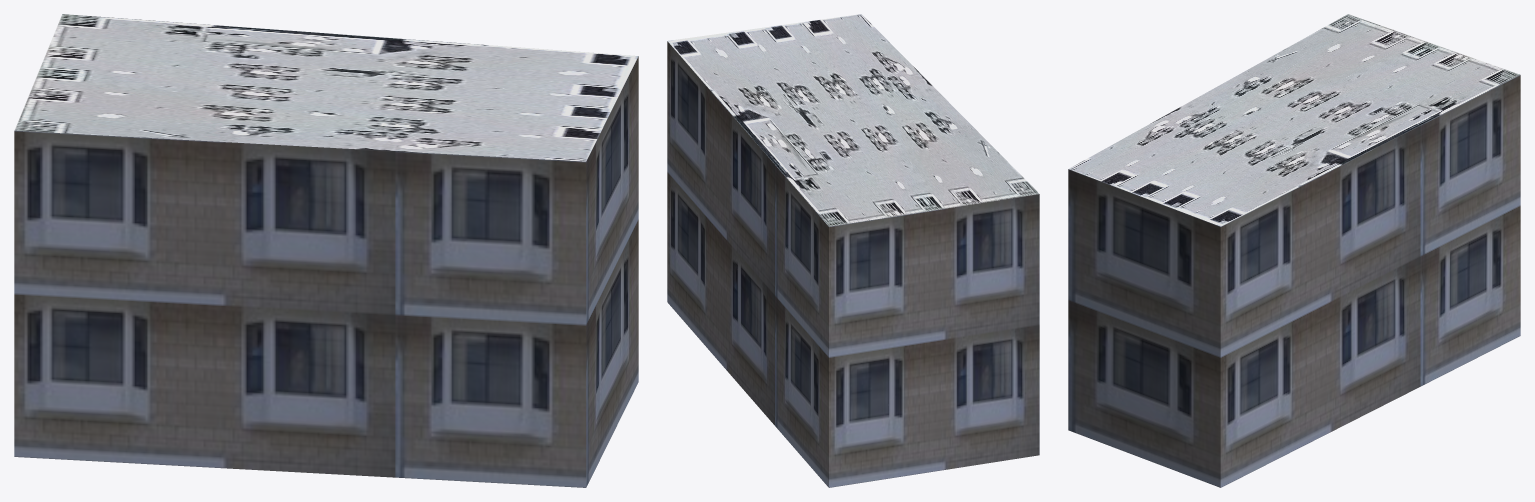
File: ResTex__303.fbx
3 views of the same model, side by side, from view 1: azimuth 30°, elevation 25°; view 2: azimuth 150°, elevation 25°; view 3: azimuth 270°, elevation 25° (orthographic). The views are drawn at different scales.
Visible parts, largest first — view 1: CityEngineMaterial_3_m, CityEngineMaterial_m; view 2: CityEngineMaterial_3_m, CityEngineMaterial_m; view 3: CityEngineMaterial_3_m, CityEngineMaterial_m.
Part boxes in pixels (x1=…): CityEngineMaterial_3_m: x1=14, y1=56, x2=638, y2=487; CityEngineMaterial_m: x1=14, y1=14, x2=638, y2=161; CityEngineMaterial_3_m: x1=667, y1=41, x2=1039, y2=487; CityEngineMaterial_m: x1=667, y1=14, x2=1038, y2=226; CityEngineMaterial_3_m: x1=1068, y1=75, x2=1520, y2=487; CityEngineMaterial_m: x1=1069, y1=14, x2=1519, y2=226.
Size of the model in its own units: 10.48 by 6 by 9.41.
Materials: 2 (2 with a texture image).
